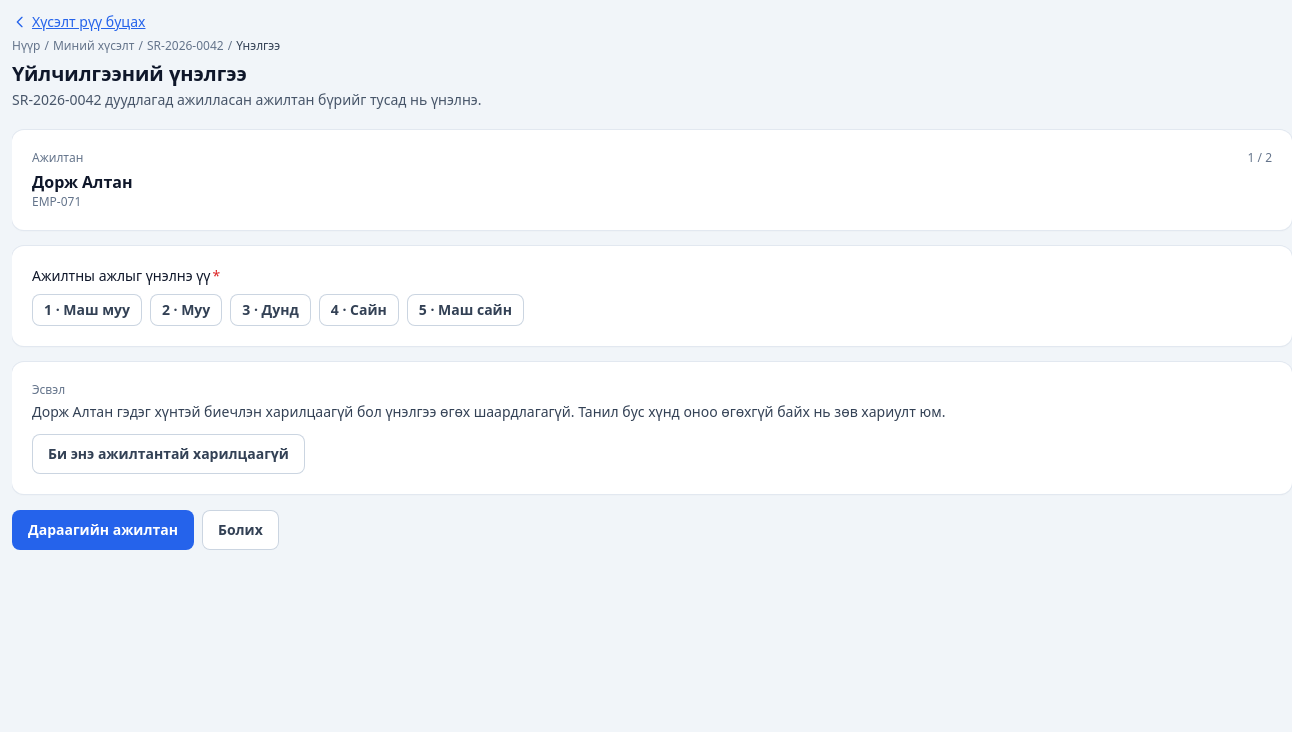
Test: PortalSurveyPage › walks the technicians one at a time, then thanks the customer
Expected: the text "Дорж Алтан" is shown, [32, 171, 132, 193]
Expected: the text "1 / 2" is shown, [1248, 150, 1272, 166]
Click the button "5 · Маш сайн": point(465, 310) [407, 294, 524, 326]
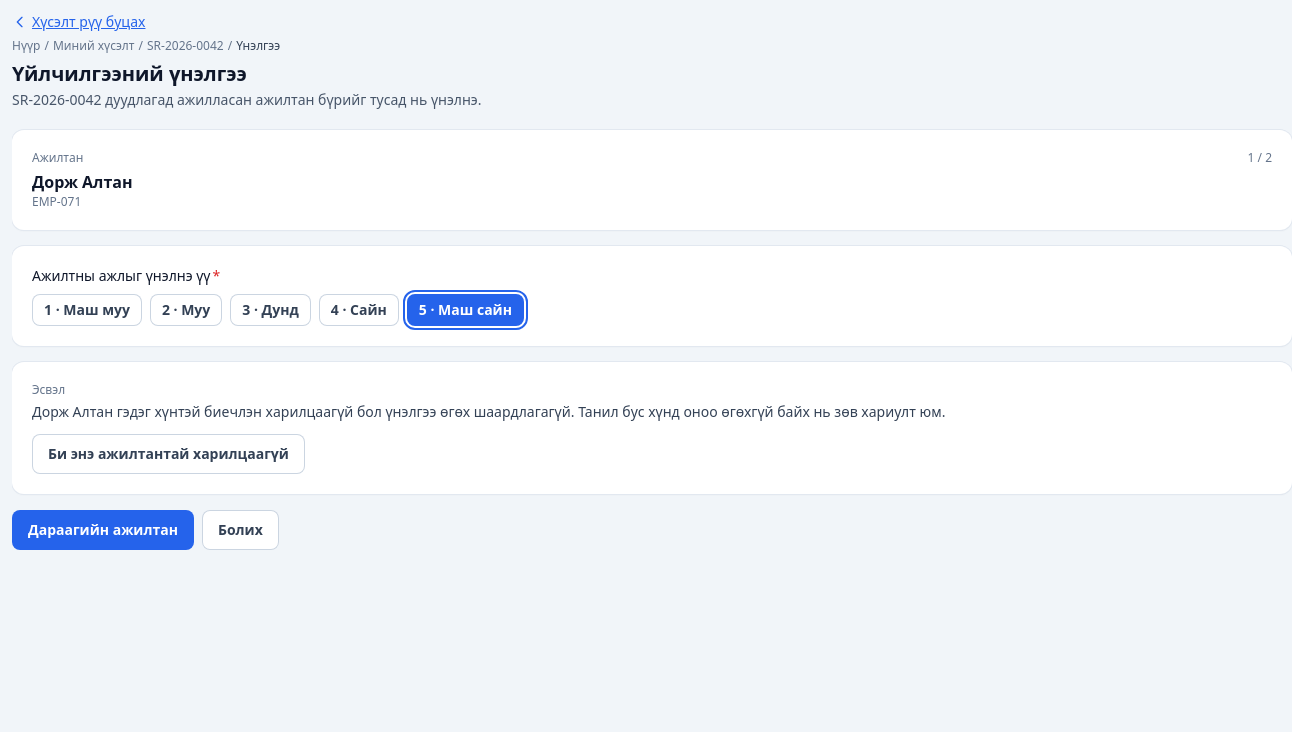
Click the button "Дараагийн ажилтан": point(103, 530) [12, 510, 194, 550]
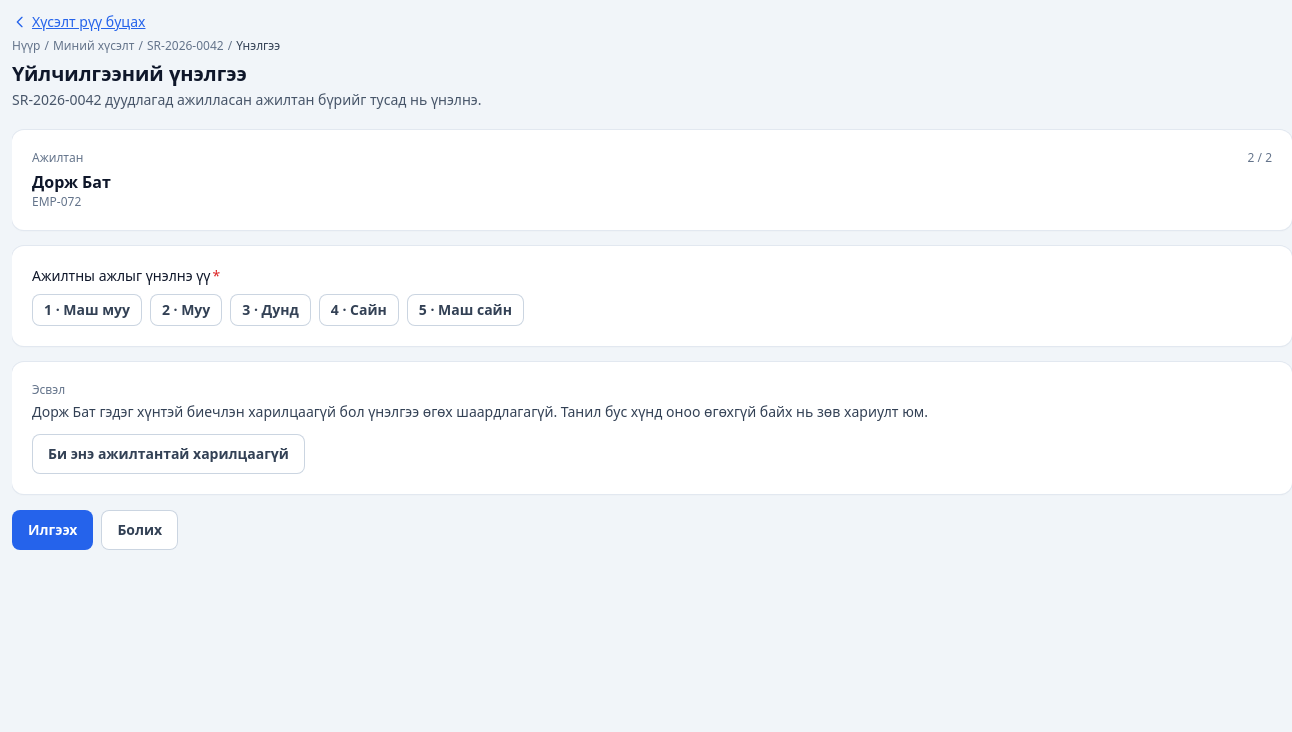
Expected: the text "Дорж Бат" is shown, [32, 171, 111, 193]
Expected: the text "2 / 2" is shown, [1248, 150, 1272, 166]
Click the button "2 · Муу": point(186, 310) [150, 294, 222, 326]
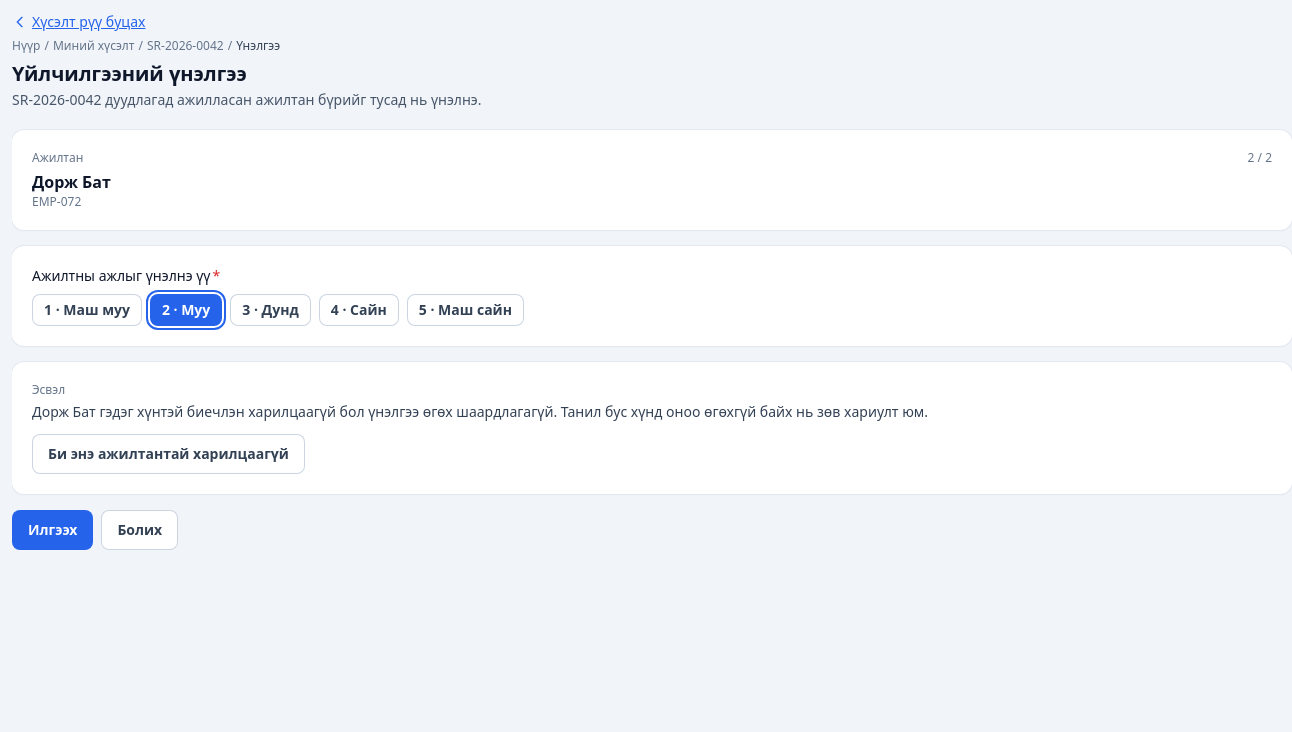
Click the button "Илгээх": point(53, 530) [12, 510, 93, 550]
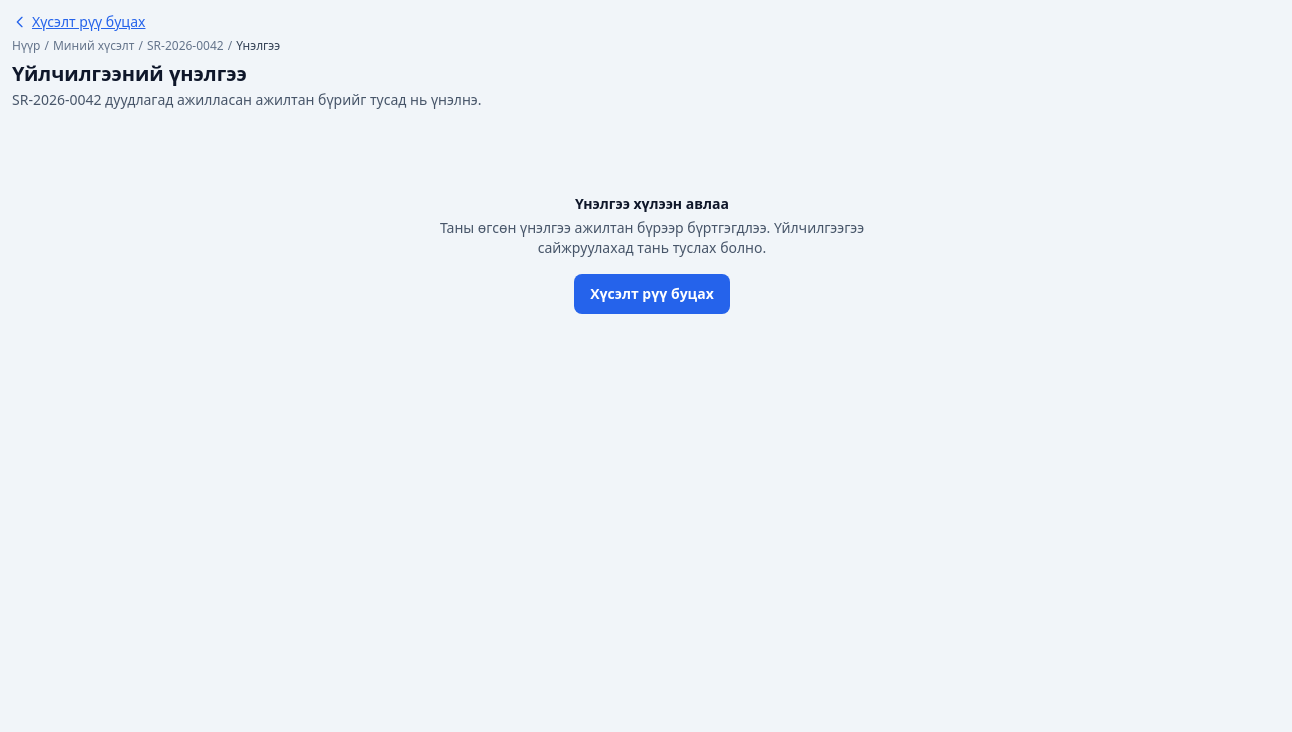
Expected: the text "Үнэлгээ хүлээн авлаа" is shown, [575, 194, 729, 213]
